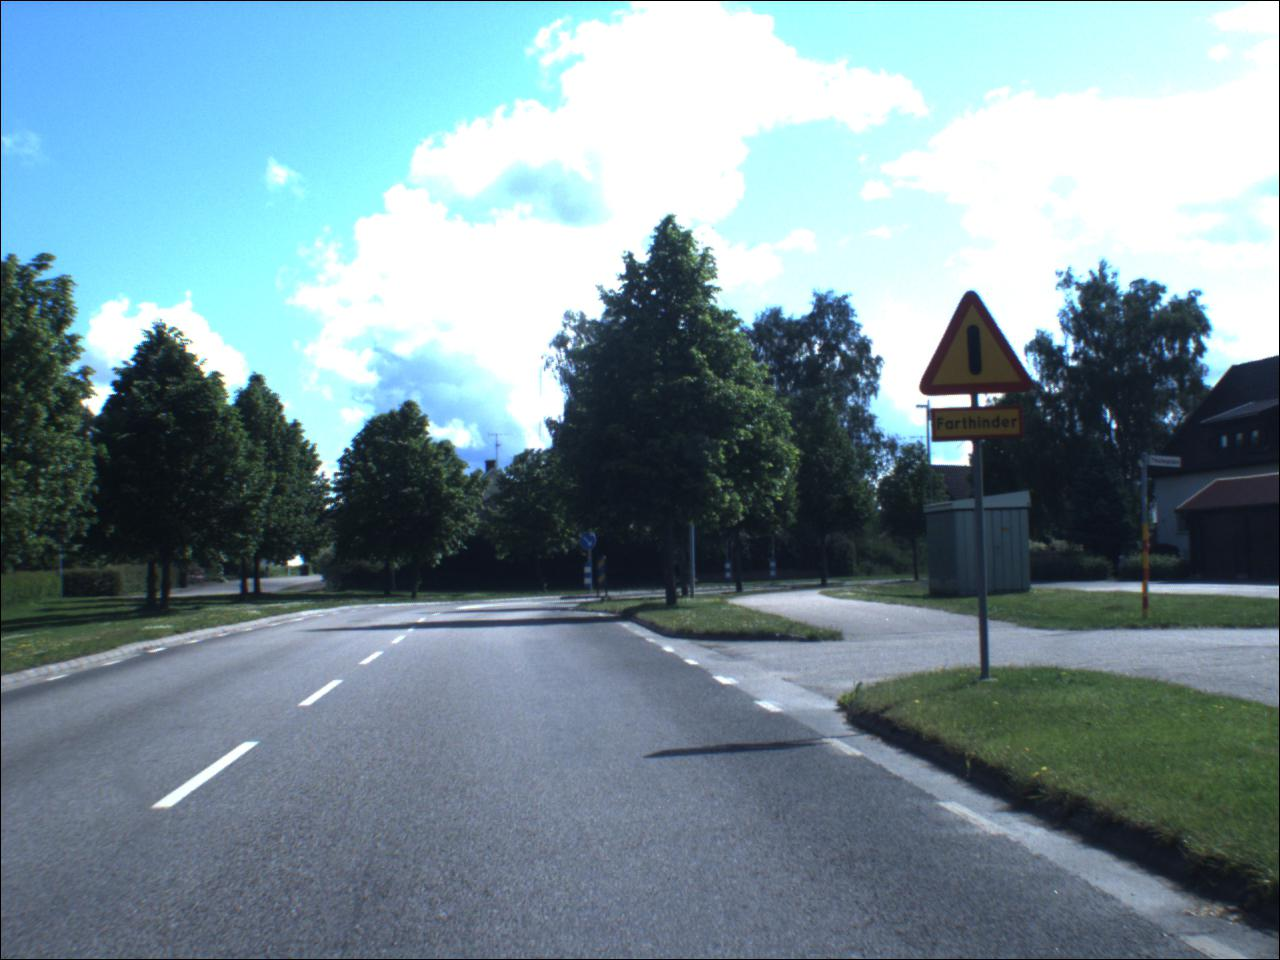PASS_RIGHT_SIDE: (580, 534, 599, 553)
WARNING_DANGER: (917, 292, 1035, 400)
